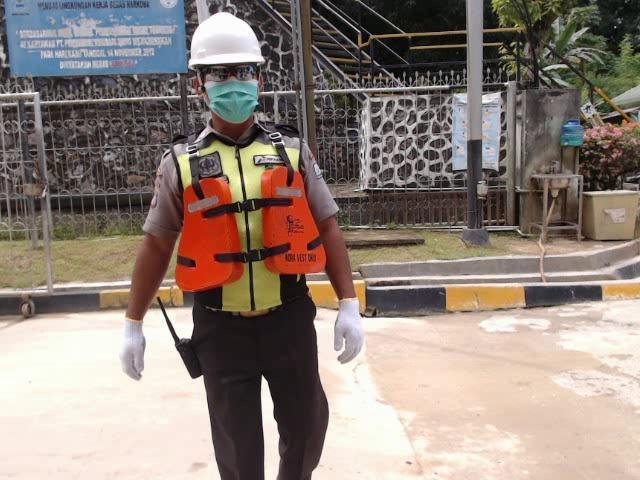vest: (174, 171, 329, 293)
